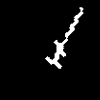double_crochet: (45, 8, 82, 67)
